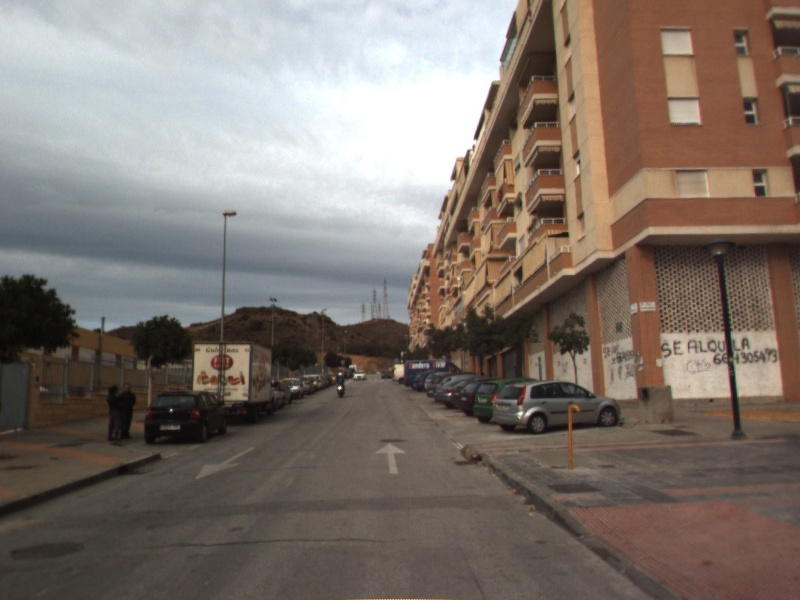STRAIGHT: (373, 440, 408, 476)
